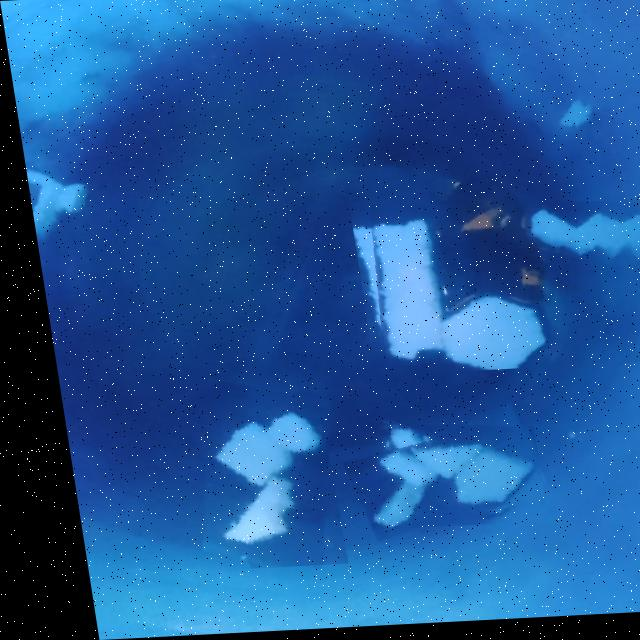thermocoal: (352, 196, 640, 378), (173, 382, 330, 571), (326, 417, 531, 533), (343, 208, 444, 366), (420, 285, 550, 382), (197, 456, 312, 565), (501, 195, 640, 259), (17, 135, 95, 246), (415, 439, 519, 515), (192, 411, 285, 492), (360, 424, 470, 483), (228, 392, 310, 449), (339, 463, 414, 517), (530, 95, 611, 143)
